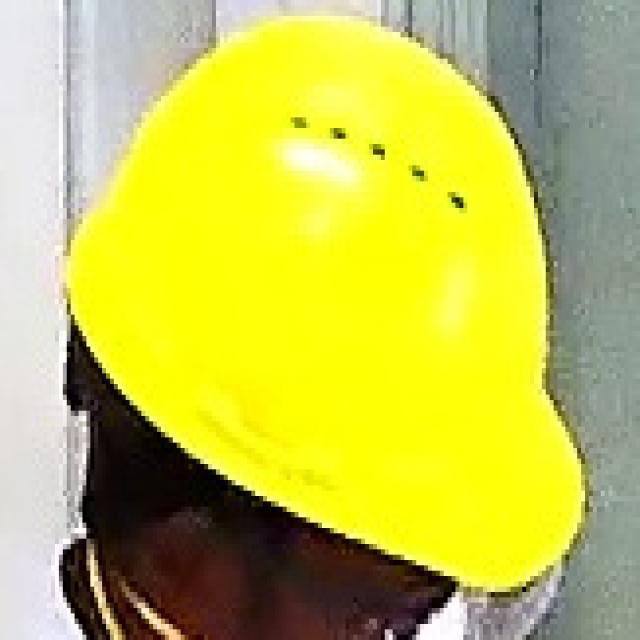yellow helmet: (68, 13, 591, 588)
